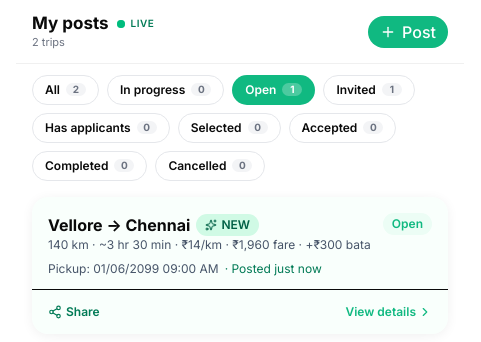
Test: PostedTripsPage › Invited chip surfaces open trips with pending invitations (and hides them from Open)
Expected: the text "Vellore → Chennai" is shown, [48, 213, 190, 237]
Expected: the text "bangalore → chennai" is not shown
// Invited chip — only the trip with pending invitations
Click the button "Invited 1": (369, 90) [324, 75, 415, 105]
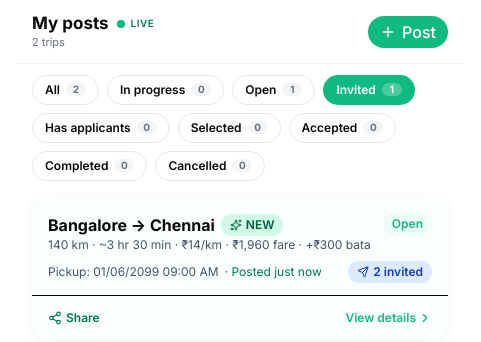
Now the text "Bangalore → Chennai" is shown, box [48, 213, 215, 237]
Now the link "Vellore → Chennai" is gone
